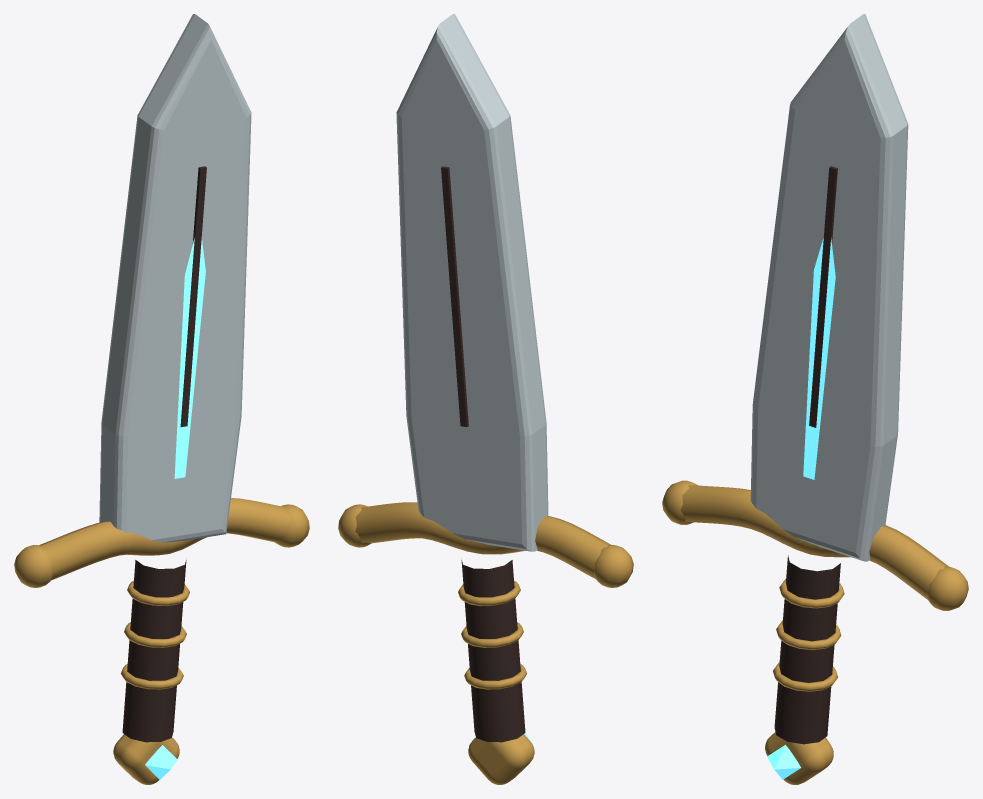
Rendered from weapon_sword.glb.
3 renders of one model, left to right at view 1: azimuth 30°, elevation 25°; view 2: azimuth 150°, elevation 25°; view 3: azimuth 330°, elevation 25°, orthographic. The views are drawn at different scales.
Parts seen in each view (by area): view 1: blade_mesh, weapon_grip, weapon_guard, weapon_rune, weapon_fuller_1, weapon_pommel, weapon_guard_cap_-1, weapon_guard_cap_1, weapon_trim_wrap_2, weapon_trim_wrap_1, weapon_trim_wrap_0, weapon_rune_pommel; view 2: blade_mesh, weapon_grip, weapon_guard, weapon_fuller_-1, weapon_pommel, weapon_guard_cap_-1, weapon_guard_cap_1, weapon_trim_wrap_2, weapon_trim_wrap_1, weapon_trim_wrap_0; view 3: blade_mesh, weapon_grip, weapon_guard, weapon_rune, weapon_fuller_1, weapon_pommel, weapon_guard_cap_1, weapon_guard_cap_-1, weapon_trim_wrap_0, weapon_trim_wrap_2, weapon_trim_wrap_1, weapon_rune_pommel.
Boxes of the visible parts, bbox=[...] form: blade_mesh: bbox=[99, 14, 251, 542]; weapon_grip: bbox=[122, 560, 186, 742]; weapon_guard: bbox=[39, 498, 290, 580]; weapon_rune: bbox=[174, 238, 205, 478]; weapon_fuller_1: bbox=[180, 166, 206, 427]; weapon_pommel: bbox=[113, 734, 179, 784]; weapon_guard_cap_-1: bbox=[14, 545, 52, 587]; weapon_guard_cap_1: bbox=[274, 504, 309, 547]; weapon_trim_wrap_2: bbox=[121, 664, 183, 689]; weapon_trim_wrap_1: bbox=[124, 622, 186, 647]; weapon_trim_wrap_0: bbox=[127, 580, 189, 606]; weapon_rune_pommel: bbox=[145, 745, 177, 779]; blade_mesh: bbox=[396, 14, 548, 551]; weapon_grip: bbox=[461, 560, 525, 742]; weapon_guard: bbox=[355, 502, 610, 578]; weapon_fuller_-1: bbox=[441, 166, 468, 427]; weapon_pommel: bbox=[468, 734, 534, 784]; weapon_guard_cap_-1: bbox=[594, 545, 633, 587]; weapon_guard_cap_1: bbox=[338, 504, 371, 547]; weapon_trim_wrap_2: bbox=[464, 664, 526, 689]; weapon_trim_wrap_1: bbox=[461, 622, 523, 647]; weapon_trim_wrap_0: bbox=[458, 580, 520, 606]; blade_mesh: bbox=[750, 14, 908, 561]; weapon_grip: bbox=[774, 555, 840, 744]; weapon_guard: bbox=[680, 485, 948, 599]; weapon_rune: bbox=[803, 237, 835, 479]; weapon_fuller_1: bbox=[809, 166, 837, 427]; weapon_pommel: bbox=[765, 732, 833, 784]; weapon_guard_cap_1: bbox=[926, 566, 968, 610]; weapon_guard_cap_-1: bbox=[662, 480, 697, 524]; weapon_trim_wrap_0: bbox=[779, 579, 844, 608]; weapon_trim_wrap_2: bbox=[773, 662, 837, 691]; weapon_trim_wrap_1: bbox=[776, 620, 841, 649]; weapon_rune_pommel: bbox=[767, 745, 800, 779].
Size of the model in its own units: 0.9609 by 2.37 by 0.2287.
